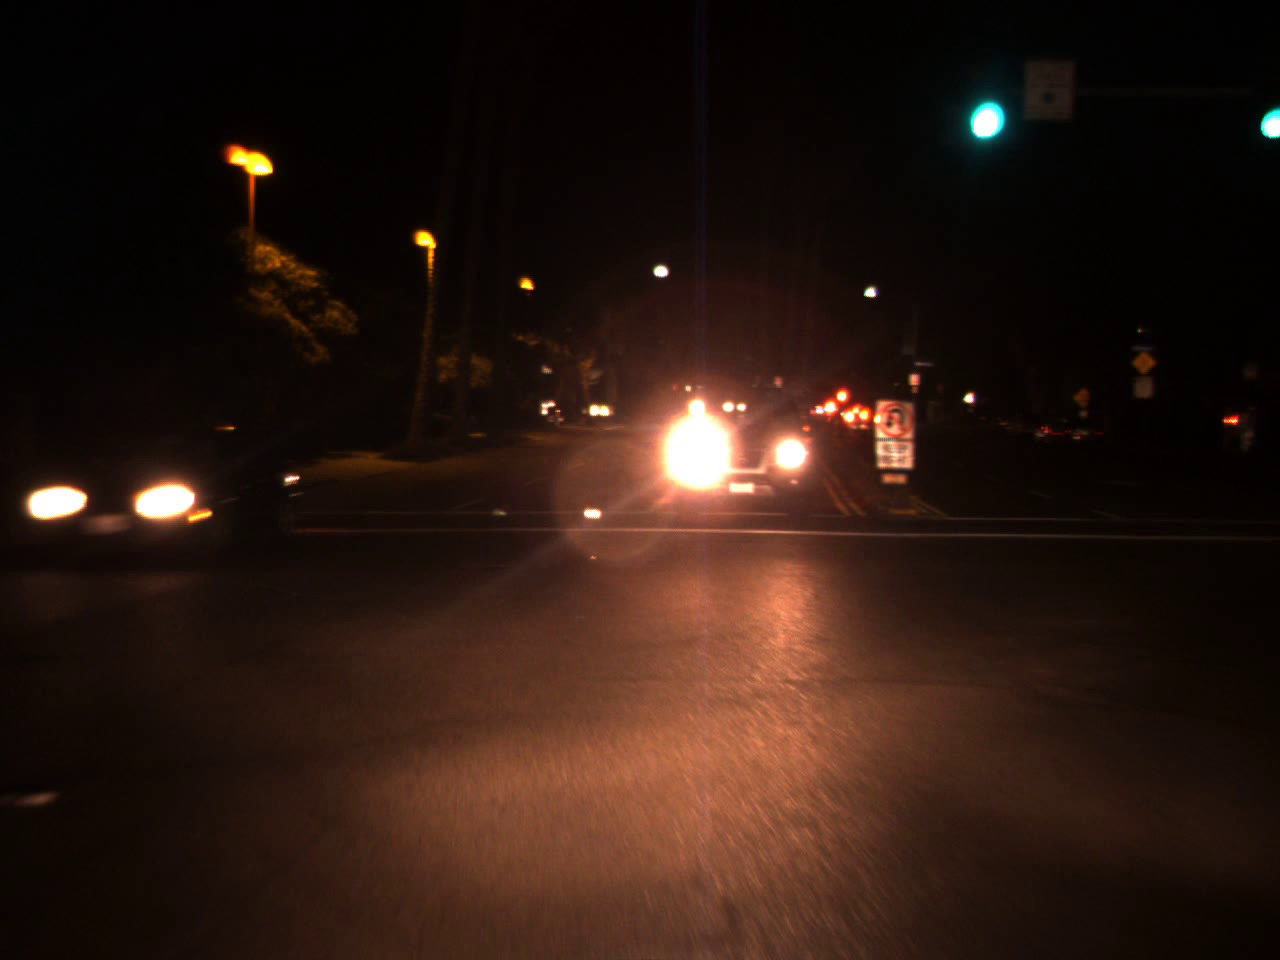go: (961, 66, 1002, 153), (1251, 78, 1280, 141)
